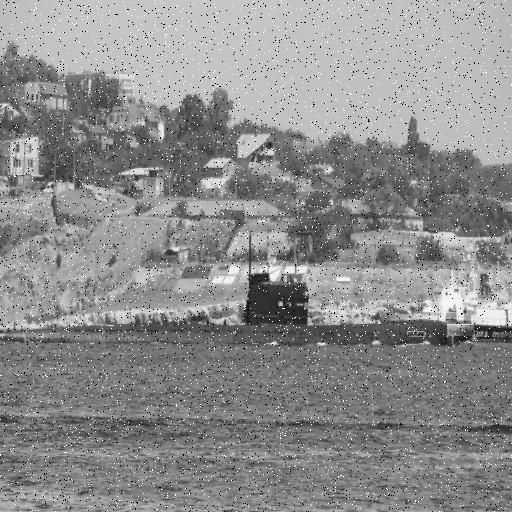submarine: (1, 272, 457, 343)
